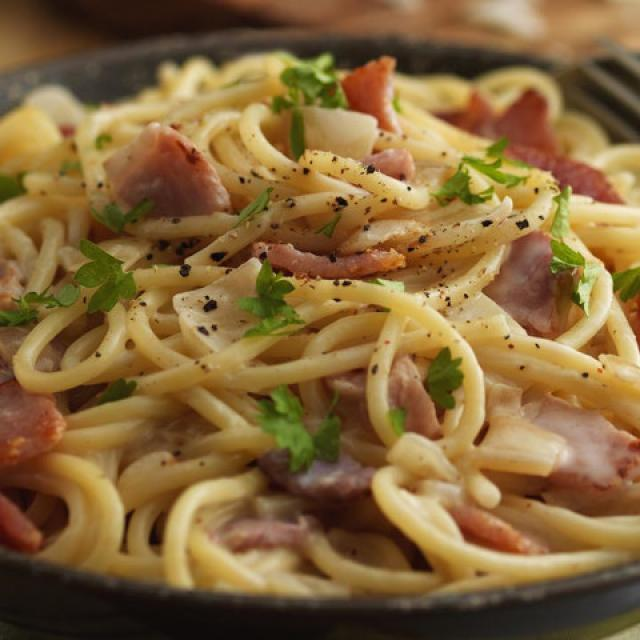Pasta with carbonara sauce: (5, 48, 631, 602)
